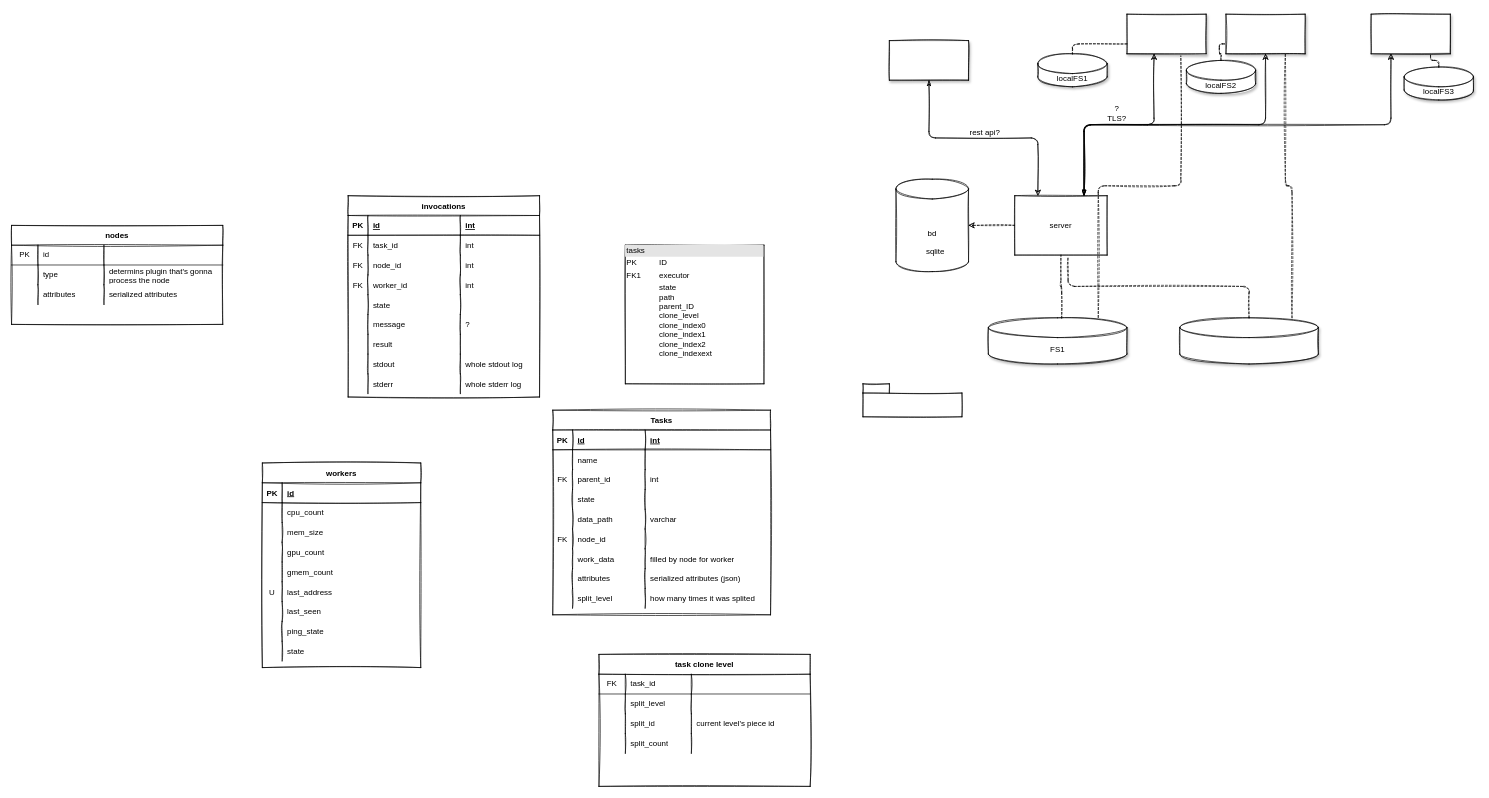
This 1489x798 diagram has some shape labels left out. Each missing label, with the centre of its shape:
"FS2" belongs at point 1249,341.
"GUI" belongs at point 929,61.
"worker1" belongs at point 1167,34.
"worker2" belongs at point 1266,34.
"worker3 cloud" belongs at point 1411,34.
